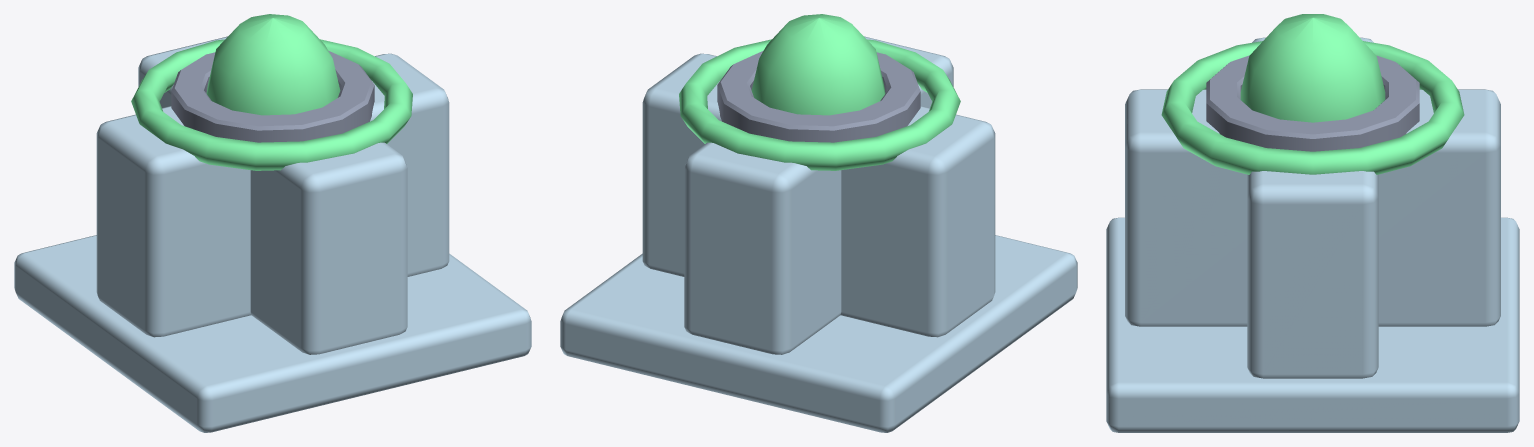
Rendered from R4X_RepairPulse.glb.
3 renders of one model, left to right at view 1: azimuth 30°, elevation 25°; view 2: azimuth 150°, elevation 25°; view 3: azimuth 270°, elevation 25°, orthographic. The views are drawn at different scales.
Visible parts, largest first — view 1: R4X_RepairPulse_Body; view 2: R4X_RepairPulse_Body; view 3: R4X_RepairPulse_Body.
Boxes of the visible parts, left/top/right/bottom form: R4X_RepairPulse_Body: left=14, top=14, right=531, bottom=432; R4X_RepairPulse_Body: left=560, top=14, right=1077, bottom=432; R4X_RepairPulse_Body: left=1106, top=14, right=1519, bottom=432.
Bounding box in the file's own units: 0.52 × 0.4619 × 0.52.
